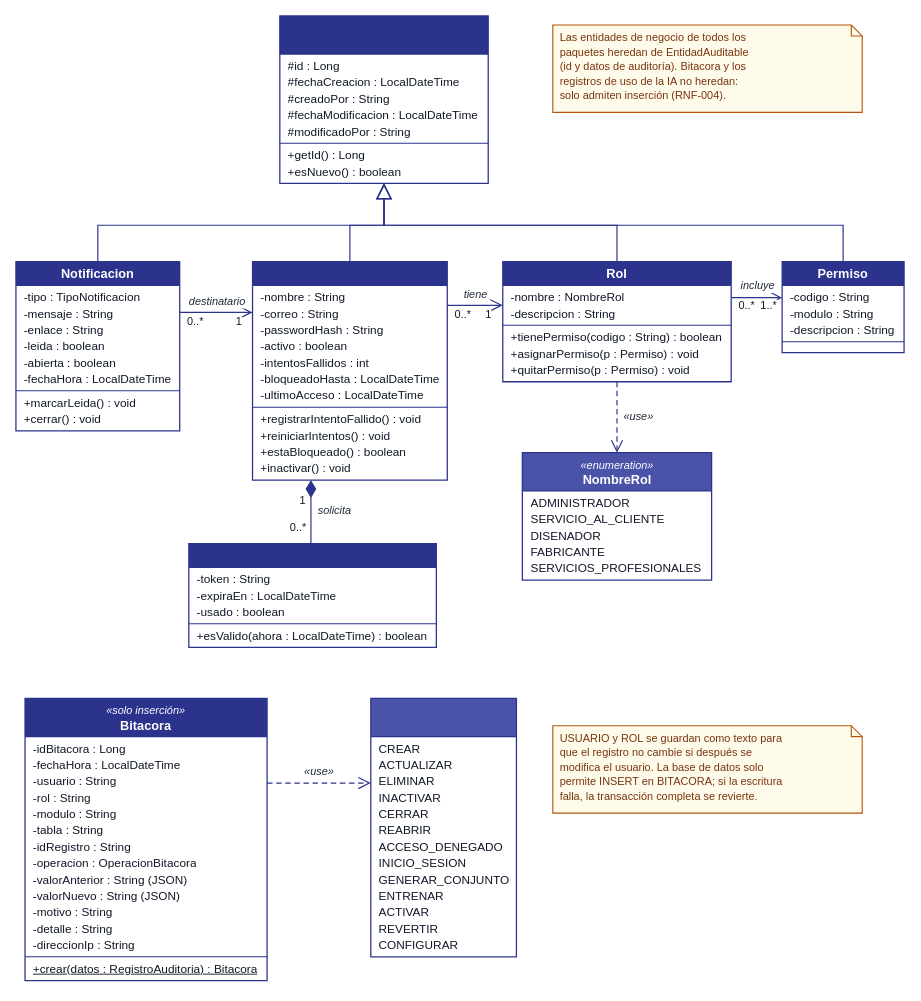
Image size: 921x1001. Some labels were removed from this diagram. Each missing label, with the box of its shape:
TokenRecuperacion: (188, 543, 437, 648)
Usuario: (251, 261, 447, 480)
«abstract» EntidadAuditable: (279, 15, 488, 184)
«enumeration» OperacionBitacora: (370, 697, 517, 957)
